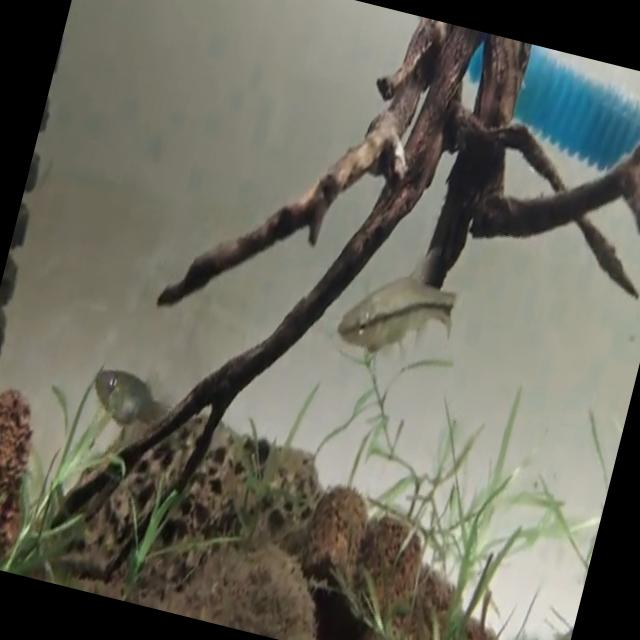Cakil Baligi: (324, 229, 471, 375)
